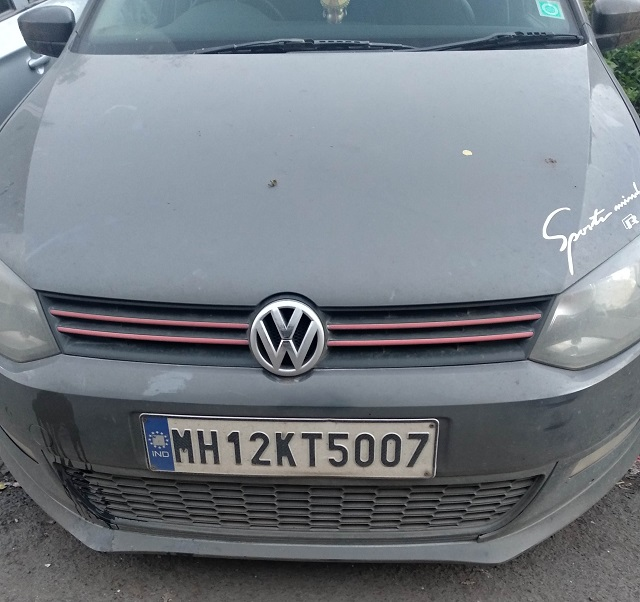licenseplate: (131, 408, 442, 481)
